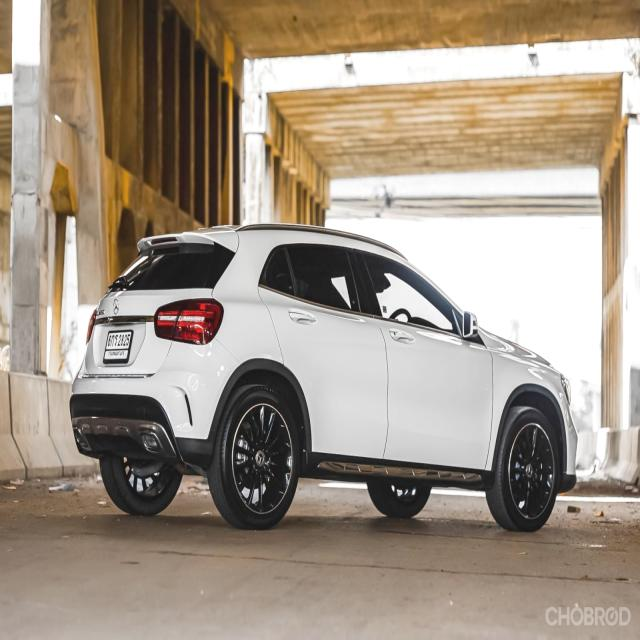license_plate: (102, 328, 133, 363)
